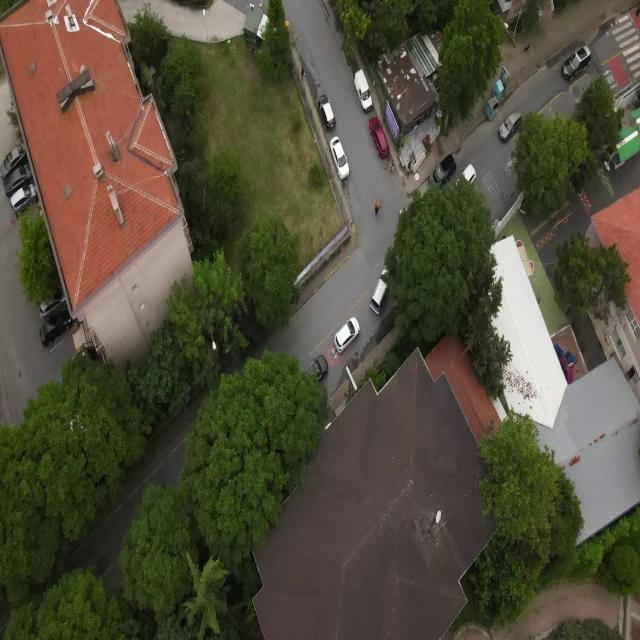p3rson: (375, 206, 379, 215), (301, 67, 304, 79)
